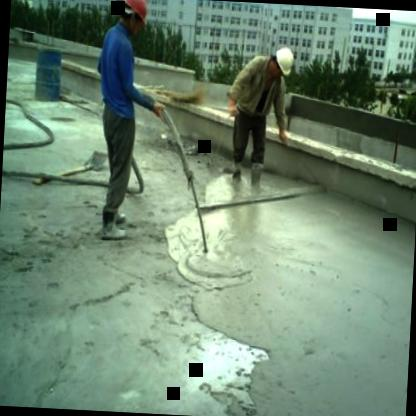helmet: (267, 43, 297, 84), (117, 0, 150, 34)
